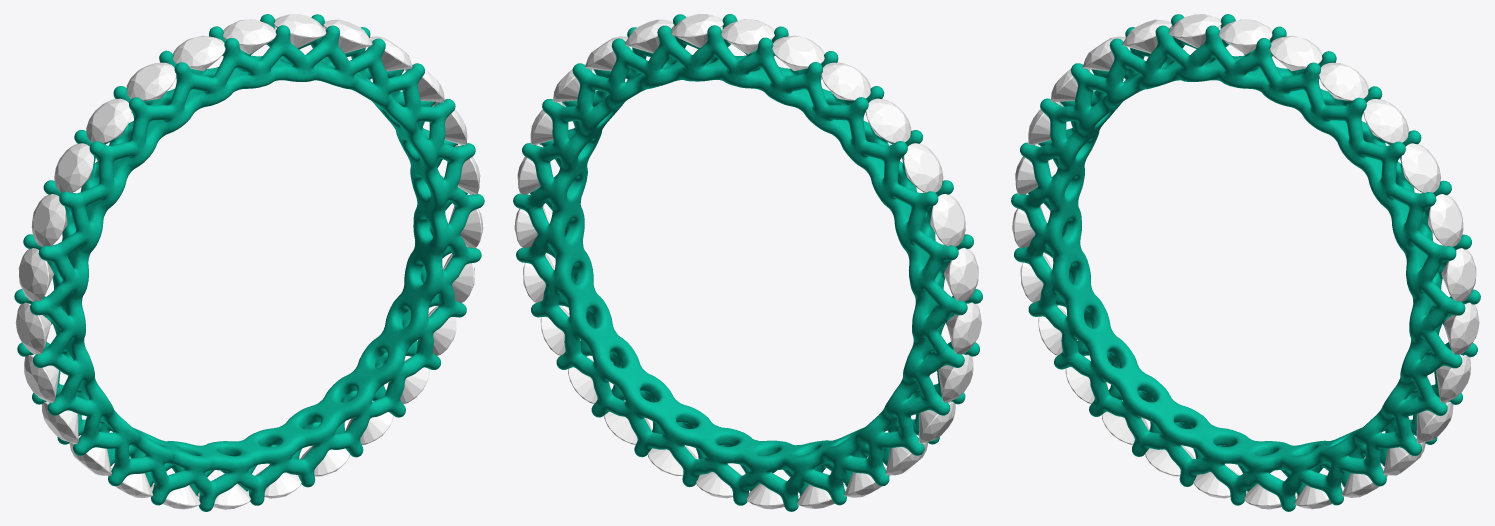
The model's file is BE2D1126LC_RENDER.glb.
3 views of the same model, side by side, from view 1: azimuth 30°, elevation 25°; view 2: azimuth 150°, elevation 25°; view 3: azimuth 330°, elevation 25° (orthographic).
Parts seen in each view (by area): view 1: Metal03, Diamond_Round_Gem_BD.022, Diamond_Round_Gem_BD.023, Diamond_Round_Gem_BD.021, Diamond_Round_Gem_BD.024, Diamond_Round_Gem_BD.020, Diamond_Round_Gem_BD.025, Diamond_Round_Gem_BD.019, Diamond_Round_Gem_BD.026, Diamond_Round_Gem_BD.018, Diamond_Round_Gem_BD, Diamond_Round_Gem_BD.017 (+16 smaller); view 2: Metal03, Diamond_Round_Gem_BD.022, Diamond_Round_Gem_BD.023, Diamond_Round_Gem_BD.021, Diamond_Round_Gem_BD.024, Diamond_Round_Gem_BD.020, Diamond_Round_Gem_BD.025, Diamond_Round_Gem_BD.019, Diamond_Round_Gem_BD.026, Diamond_Round_Gem_BD.018, Diamond_Round_Gem_BD, Diamond_Round_Gem_BD.017 (+16 smaller); view 3: Metal03, Diamond_Round_Gem_BD.002, Diamond_Round_Gem_BD.003, Diamond_Round_Gem_BD.001, Diamond_Round_Gem_BD.004, Diamond_Round_Gem_BD.005, Diamond_Round_Gem_BD, Diamond_Round_Gem_BD.006, Diamond_Round_Gem_BD.026, Diamond_Round_Gem_BD.007, Diamond_Round_Gem_BD.025, Diamond_Round_Gem_BD.008 (+16 smaller).
Boxes of the visible parts, left/top/right/bottom form: Metal03: left=14, top=14, right=484, bottom=511; Diamond_Round_Gem_BD.022: left=54, top=143, right=93, bottom=192; Diamond_Round_Gem_BD.023: left=86, top=98, right=131, bottom=143; Diamond_Round_Gem_BD.021: left=31, top=194, right=67, bottom=246; Diamond_Round_Gem_BD.024: left=126, top=62, right=176, bottom=100; Diamond_Round_Gem_BD.020: left=18, top=248, right=53, bottom=301; Diamond_Round_Gem_BD.025: left=173, top=35, right=225, bottom=71; Diamond_Round_Gem_BD.019: left=15, top=302, right=51, bottom=354; Diamond_Round_Gem_BD.026: left=223, top=19, right=276, bottom=54; Diamond_Round_Gem_BD.018: left=24, top=355, right=59, bottom=402; Diamond_Round_Gem_BD: left=274, top=14, right=326, bottom=47; Diamond_Round_Gem_BD.017: left=42, top=402, right=78, bottom=443; Metal03: left=513, top=14, right=982, bottom=511; Diamond_Round_Gem_BD.022: left=903, top=143, right=943, bottom=192; Diamond_Round_Gem_BD.023: left=866, top=98, right=911, bottom=143; Diamond_Round_Gem_BD.021: left=930, top=194, right=965, bottom=246; Diamond_Round_Gem_BD.024: left=821, top=62, right=870, bottom=100; Diamond_Round_Gem_BD.020: left=943, top=248, right=978, bottom=301; Diamond_Round_Gem_BD.025: left=772, top=35, right=824, bottom=71; Diamond_Round_Gem_BD.019: left=946, top=302, right=981, bottom=354; Diamond_Round_Gem_BD.026: left=721, top=19, right=774, bottom=54; Diamond_Round_Gem_BD.018: left=938, top=354, right=973, bottom=402; Diamond_Round_Gem_BD: left=671, top=14, right=723, bottom=47; Diamond_Round_Gem_BD.017: left=919, top=401, right=955, bottom=443; Metal03: left=1011, top=14, right=1480, bottom=511; Diamond_Round_Gem_BD.002: left=1363, top=99, right=1408, bottom=143; Diamond_Round_Gem_BD.003: left=1401, top=143, right=1440, bottom=192; Diamond_Round_Gem_BD.001: left=1319, top=62, right=1368, bottom=100; Diamond_Round_Gem_BD.004: left=1428, top=194, right=1463, bottom=246; Diamond_Round_Gem_BD.005: left=1441, top=248, right=1476, bottom=301; Diamond_Round_Gem_BD: left=1270, top=35, right=1322, bottom=71; Diamond_Round_Gem_BD.006: left=1444, top=302, right=1479, bottom=354; Diamond_Round_Gem_BD.026: left=1219, top=19, right=1272, bottom=54; Diamond_Round_Gem_BD.007: left=1436, top=355, right=1470, bottom=402; Diamond_Round_Gem_BD.025: left=1169, top=14, right=1221, bottom=47; Diamond_Round_Gem_BD.008: left=1416, top=401, right=1453, bottom=443.
Size of the model in its own units: 21.32 by 21.31 by 2.24.
